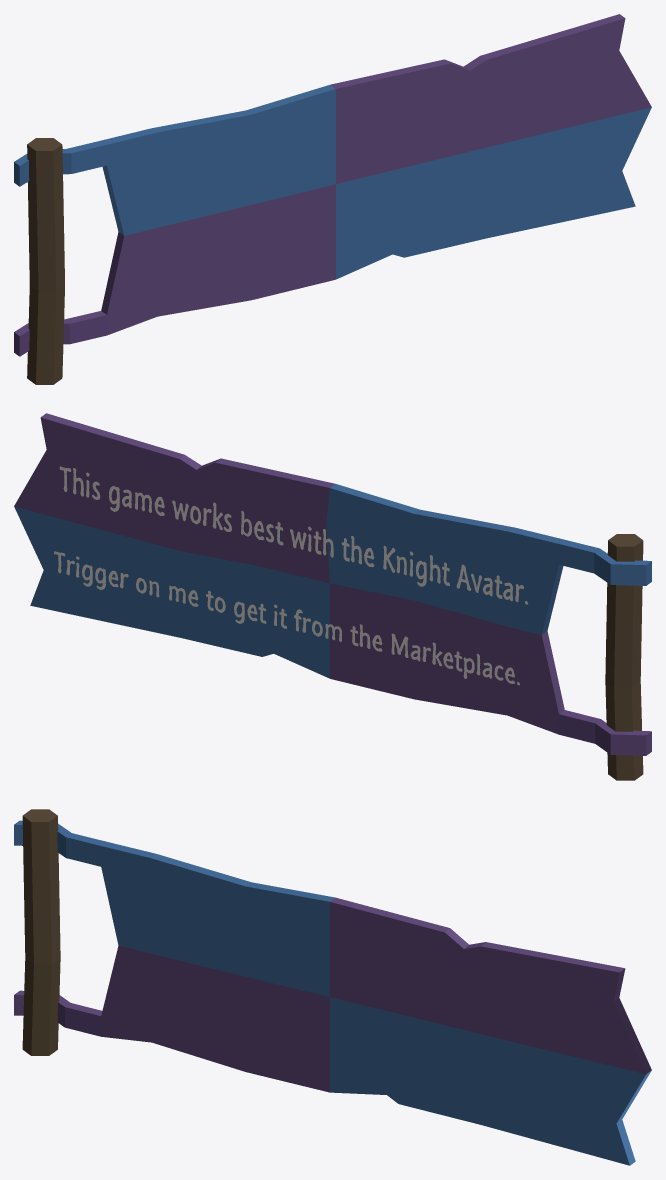
File: knight_sign_2.fbx
3 views of the same model, one above another, from view 1: azimuth 30°, elevation 25°; view 2: azimuth 150°, elevation 25°; view 3: azimuth 330°, elevation 25° (orthographic).
Visible parts, largest first — view 1: SM_Prop_Banner_04; view 2: SM_Prop_Banner_04; view 3: SM_Prop_Banner_04.
Part boxes in pixels (x1,y1,x2,y2): SM_Prop_Banner_04: (14, 14, 651, 384); SM_Prop_Banner_04: (14, 413, 651, 780); SM_Prop_Banner_04: (14, 809, 651, 1165).
Bounding box in the file's own units: 340 × 120 × 20.26.
2 materials, 1 textured.
